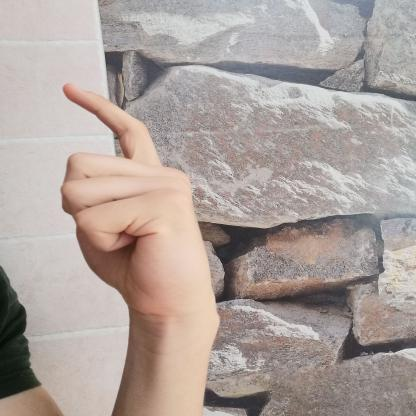RAA: (46, 74, 229, 320)
